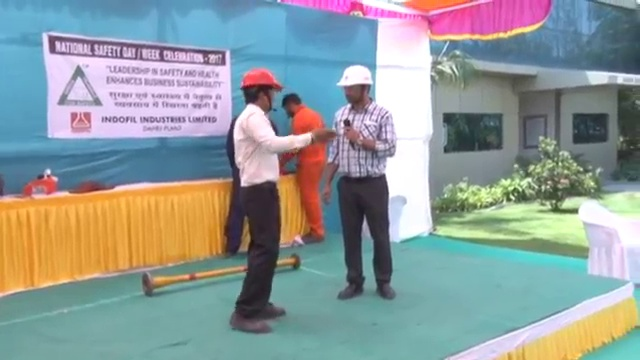helmet: (240, 67, 284, 91), (334, 65, 376, 87)
helmet_off: (279, 89, 304, 118)
helmet_on: (238, 66, 284, 114), (333, 64, 377, 111)
person: (321, 65, 398, 301), (232, 68, 287, 335), (280, 91, 327, 245)
